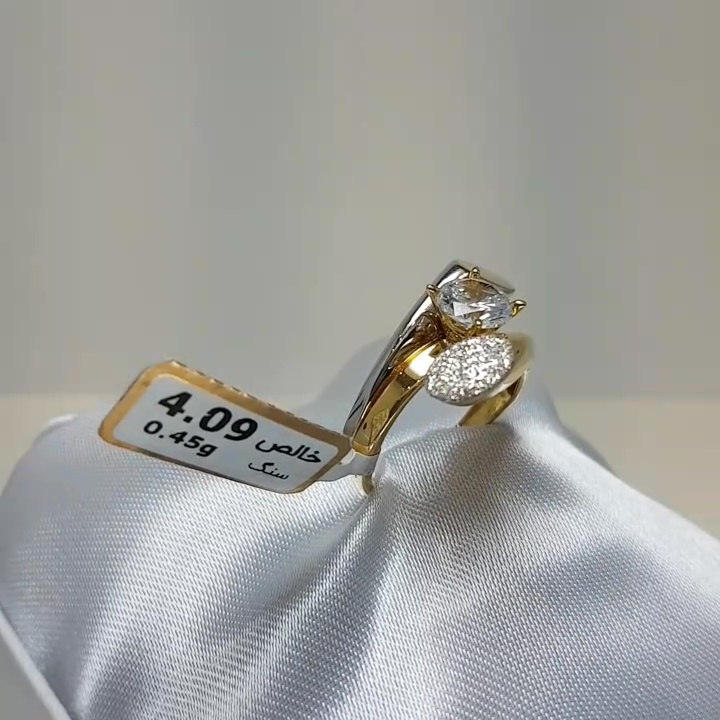Ring 7: (336, 239, 577, 502)
